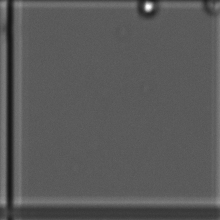Dead Cell: (201, 1, 220, 17)
Living Cell: (134, 1, 161, 19)
